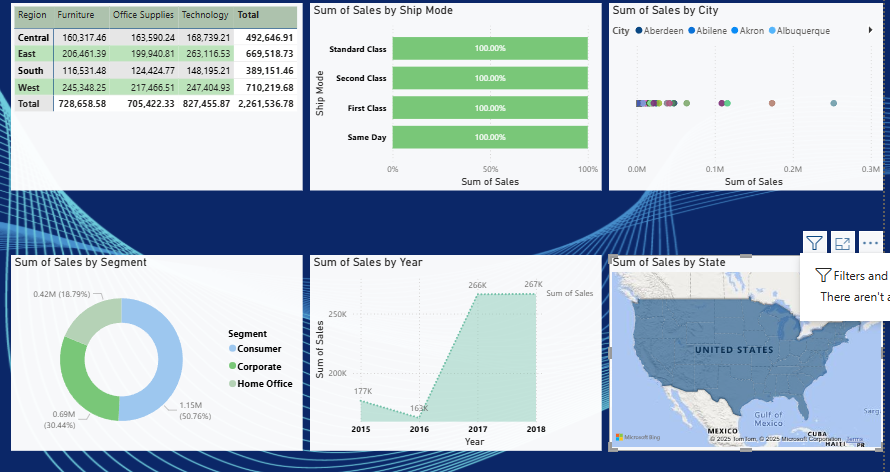

Layout of this report page (visuals, bound fields, positions):
{"tool":"powerbi","page":{"name":"Page 2","canvas":[1280,720],"ordinal":1},"visuals":[{"type":"pivotTable","fields":{"Rows":["train.Region"],"Values":["Sum(train.Sales)"],"Columns":["train.Category"]},"box":[23.5,25.2,419.9,270.4],"z":0},{"type":"donutChart","fields":{"Category":["train.Segment"],"Y":["Sum(train.Sales)"]},"box":[23.5,388,419.9,282.2],"z":1000},{"type":"hundredPercentStackedBarChart","fields":{"Category":["train.Ship Mode"],"Y":["Sum(train.Sales)"]},"box":[454,25,420,270],"z":2000},{"type":"areaChart","fields":{"Category":["train.Order Date.Variation.Date Hierarchy.Year","train.Order Date.Variation.Date Hierarchy.Quarter","train.Order Date.Variation.Date Hierarchy.Month","train.Order Date.Variation.Date Hierarchy.Day"],"Y":["Sum(train.Sales)"]},"box":[454,388,420,282],"z":2001},{"type":"scatterChart","fields":{"X":["Sum(train.Sales)"],"Series":["train.City"]},"box":[884,25,396,270],"z":2002},{"type":"filledMap","fields":{"Category":["train.State"]},"box":[884,388,396,282],"z":2003}]}

Visuals, with their boxes in screenshot pixels (x1, y1, x2, y2):
pivotTable - train.Region x Sum(train.Sales): rect(9, 0, 302, 187)
donutChart - train.Segment x Sum(train.Sales): rect(9, 252, 302, 448)
hundredPercentStackedBarChart - train.Ship Mode x Sum(train.Sales): rect(309, 0, 601, 187)
areaChart - train.Order Date.Variation.Date Hierarchy.Year x train.Order Date.Variation.Date Hierarchy.Quarter: rect(309, 252, 601, 448)
scatterChart - Sum(train.Sales) x train.City: rect(608, 0, 884, 187)
filledMap - train.State: rect(608, 252, 884, 448)
